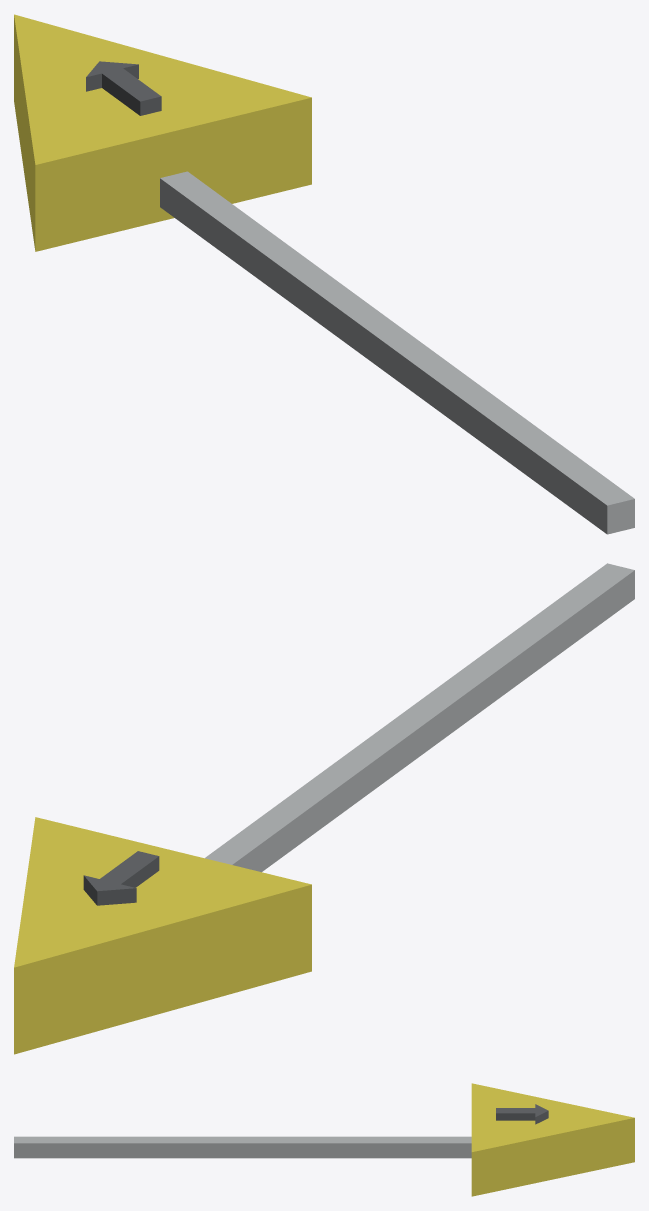
The model's file is sign.glb.
The picture shows the model from 3 angles, top to bottom: view 1: azimuth 30°, elevation 25°; view 2: azimuth 150°, elevation 25°; view 3: azimuth 270°, elevation 25°; orthographic projection. The views are drawn at different scales.
Visible parts, largest first — view 1: Mesh_Mesh_head_geo.001_lambert2SG.001; view 2: Mesh_Mesh_head_geo.001_lambert2SG.001; view 3: Mesh_Mesh_head_geo.001_lambert2SG.001.
Boxes of the visible parts, x1,y1,x2,y2 form: Mesh_Mesh_head_geo.001_lambert2SG.001: (14, 14, 634, 534); Mesh_Mesh_head_geo.001_lambert2SG.001: (14, 563, 634, 1054); Mesh_Mesh_head_geo.001_lambert2SG.001: (14, 1083, 634, 1196).
Bounding box in the file's own units: 20 × 7 × 76.
